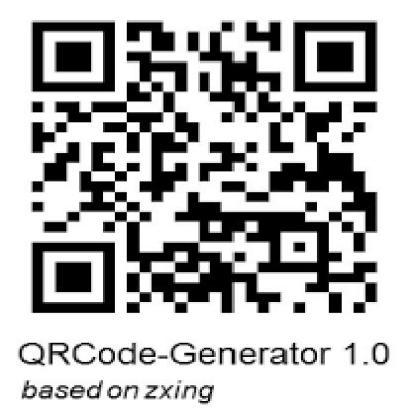qr_code: (31, 21, 377, 312)
